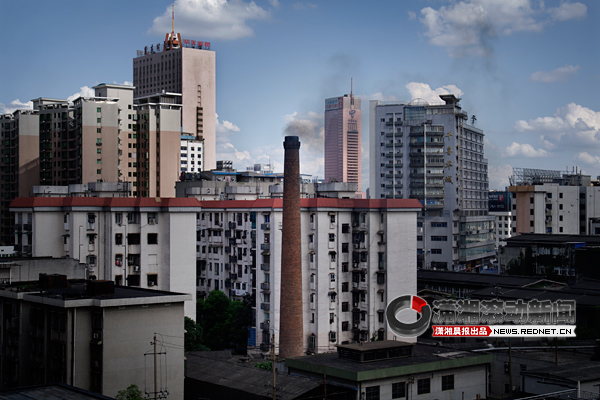dust: (277, 102, 324, 147)
